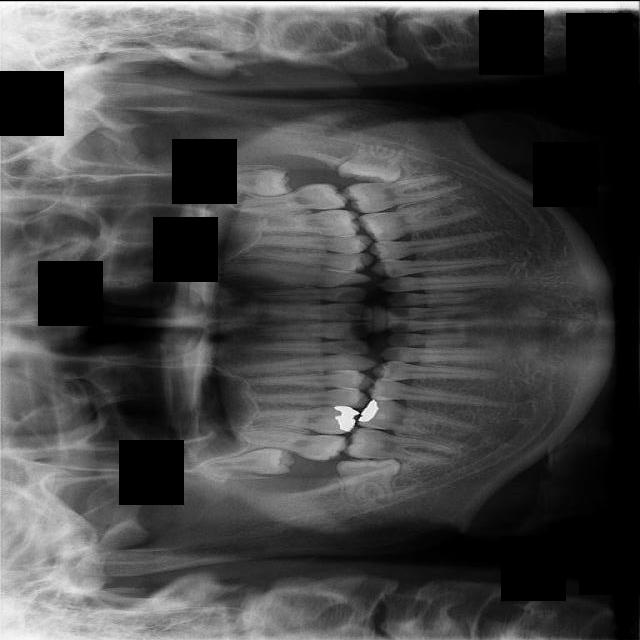3M ESPE Implant: (201, 446, 295, 476)
52: (356, 389, 411, 442), (358, 201, 411, 249), (310, 404, 360, 435)
73: (560, 38, 570, 42)
BioHorizons Implant: (224, 179, 350, 218)
BioLife Implant: (197, 167, 293, 197)
Biomet 3i Implant: (335, 134, 406, 187)
Blue Sky Bio Implant: (341, 172, 461, 215)
Caries: (236, 425, 349, 463)
Implant: (340, 425, 460, 466)
Keystone Dental Implant: (336, 455, 401, 504)
